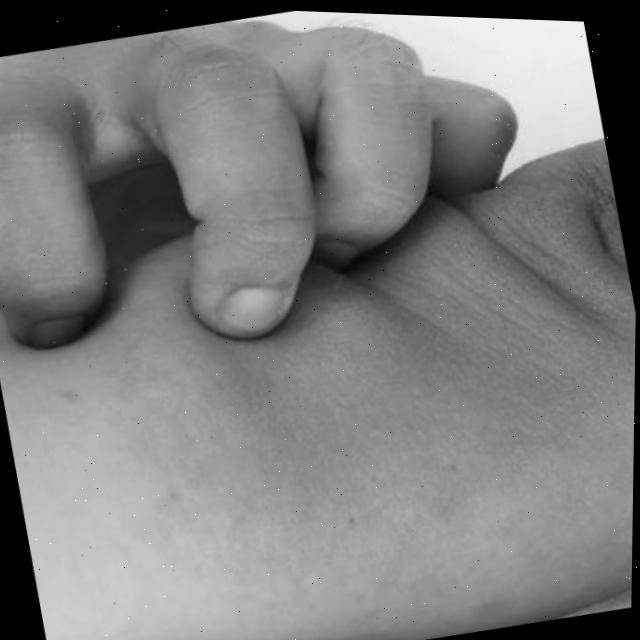Eczema: (76, 189, 637, 612)
